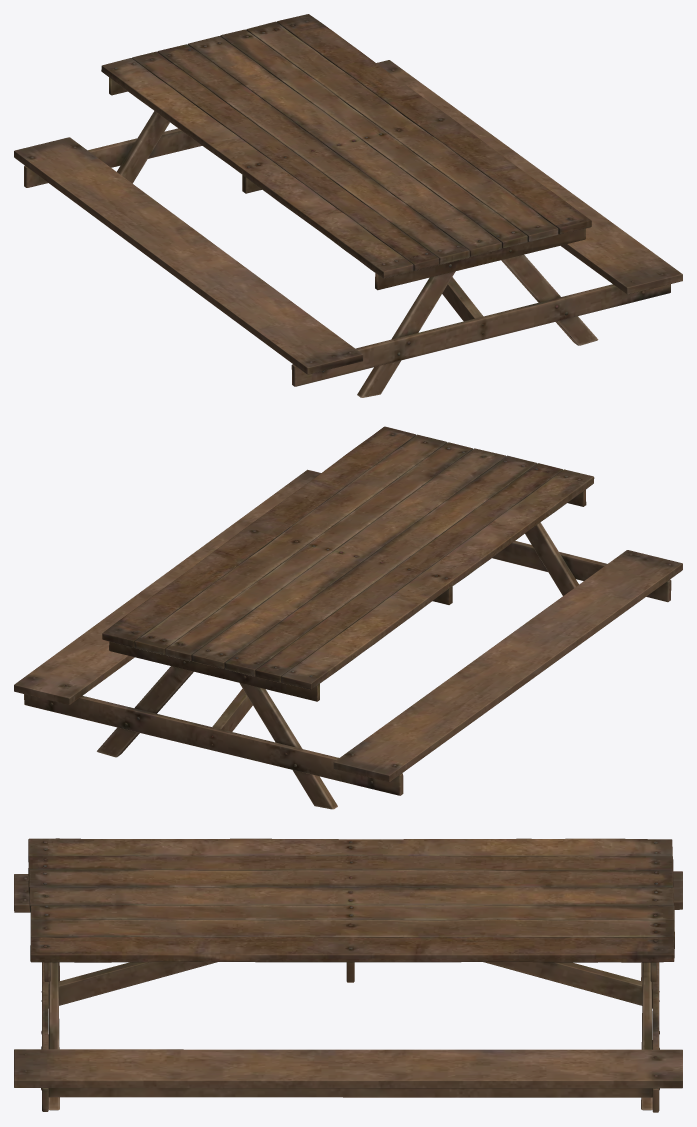
The model's file is picnic.glb.
The picture shows the model from 3 angles, top to bottom: view 1: azimuth 30°, elevation 25°; view 2: azimuth 150°, elevation 25°; view 3: azimuth 270°, elevation 25°; orthographic projection. The views are drawn at different scales.
Visible parts, largest first — view 1: wooden_picnic_table; view 2: wooden_picnic_table; view 3: wooden_picnic_table.
Part boxes in pixels (x1=…): wooden_picnic_table: x1=14, y1=14, x2=682, y2=397; wooden_picnic_table: x1=14, y1=426, x2=682, y2=809; wooden_picnic_table: x1=14, y1=838, x2=682, y2=1112.
Size of the model in its own units: 2.24 by 0.746 by 3.02.
2 materials, 2 textured.
